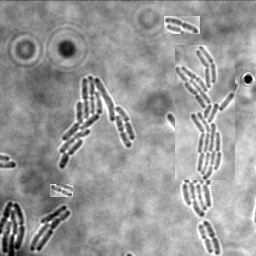Dividing: (204, 219, 222, 255), (164, 16, 200, 34), (199, 223, 215, 253), (197, 87, 209, 116), (50, 184, 73, 197)
Microcolony: (175, 45, 235, 180), (59, 75, 136, 169), (30, 204, 72, 251), (1, 200, 26, 255)
